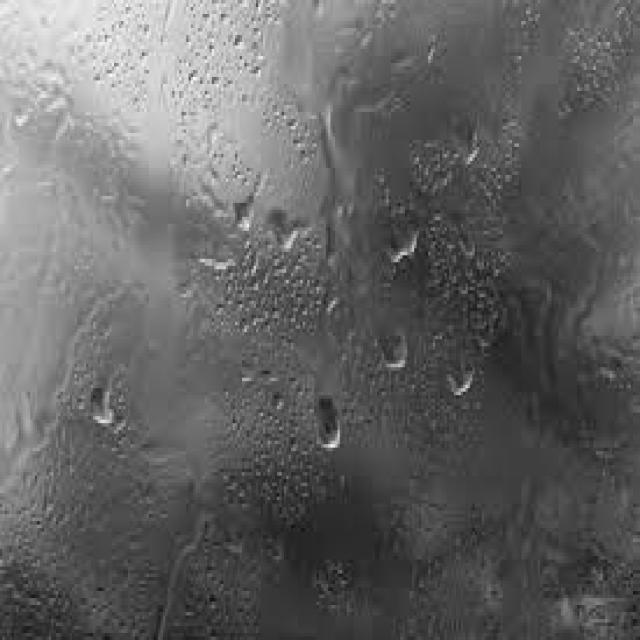raindrop: (366, 194, 436, 276), (307, 378, 357, 474), (368, 299, 427, 372), (84, 368, 122, 454)
